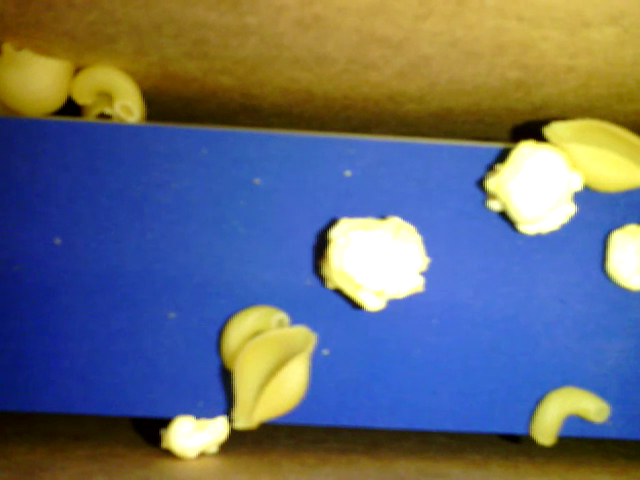elbow: (227, 323, 318, 429), (525, 383, 609, 449), (219, 304, 290, 371), (72, 63, 144, 121)
shell: (541, 115, 639, 194), (2, 45, 72, 116)
